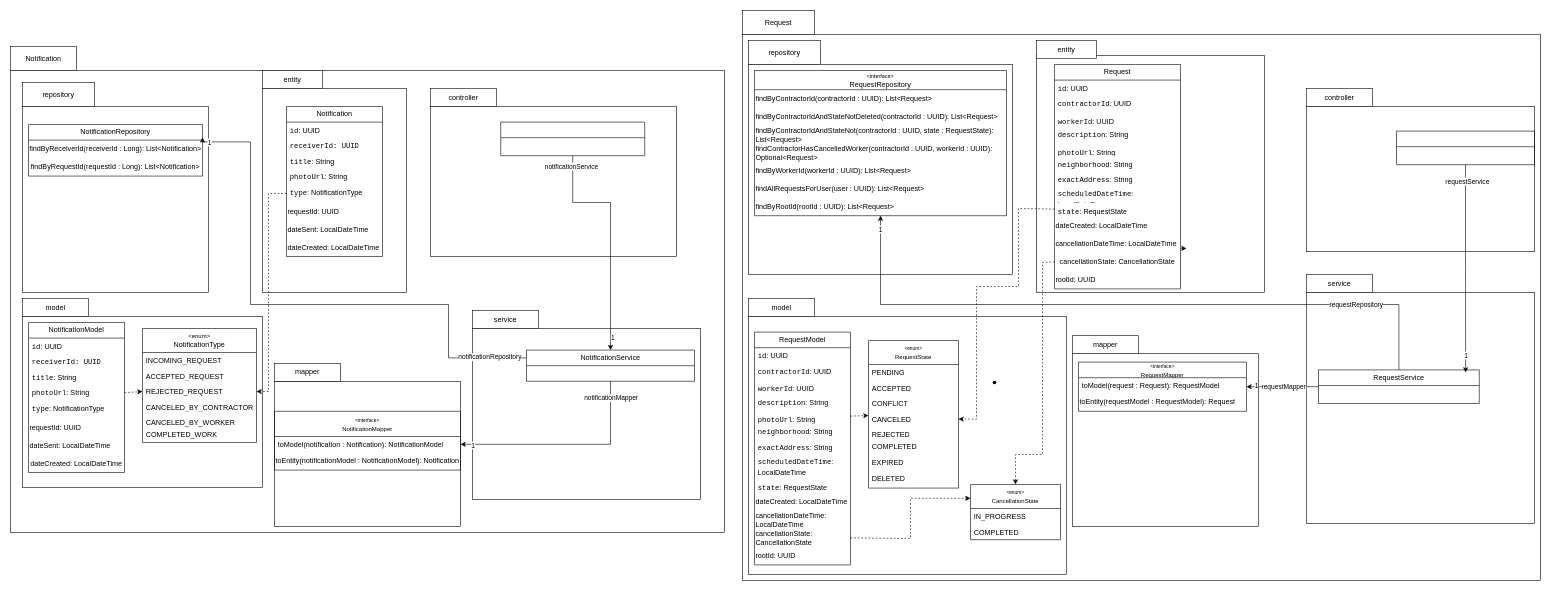
Some shapes in this 1551 by 591 pixel diagram are drawn without their labels. Here are the shapes that lost their labels. From the top down, the centre of each, then its label:
point 572,139: NotificationController
point 1465,147: RequestController
